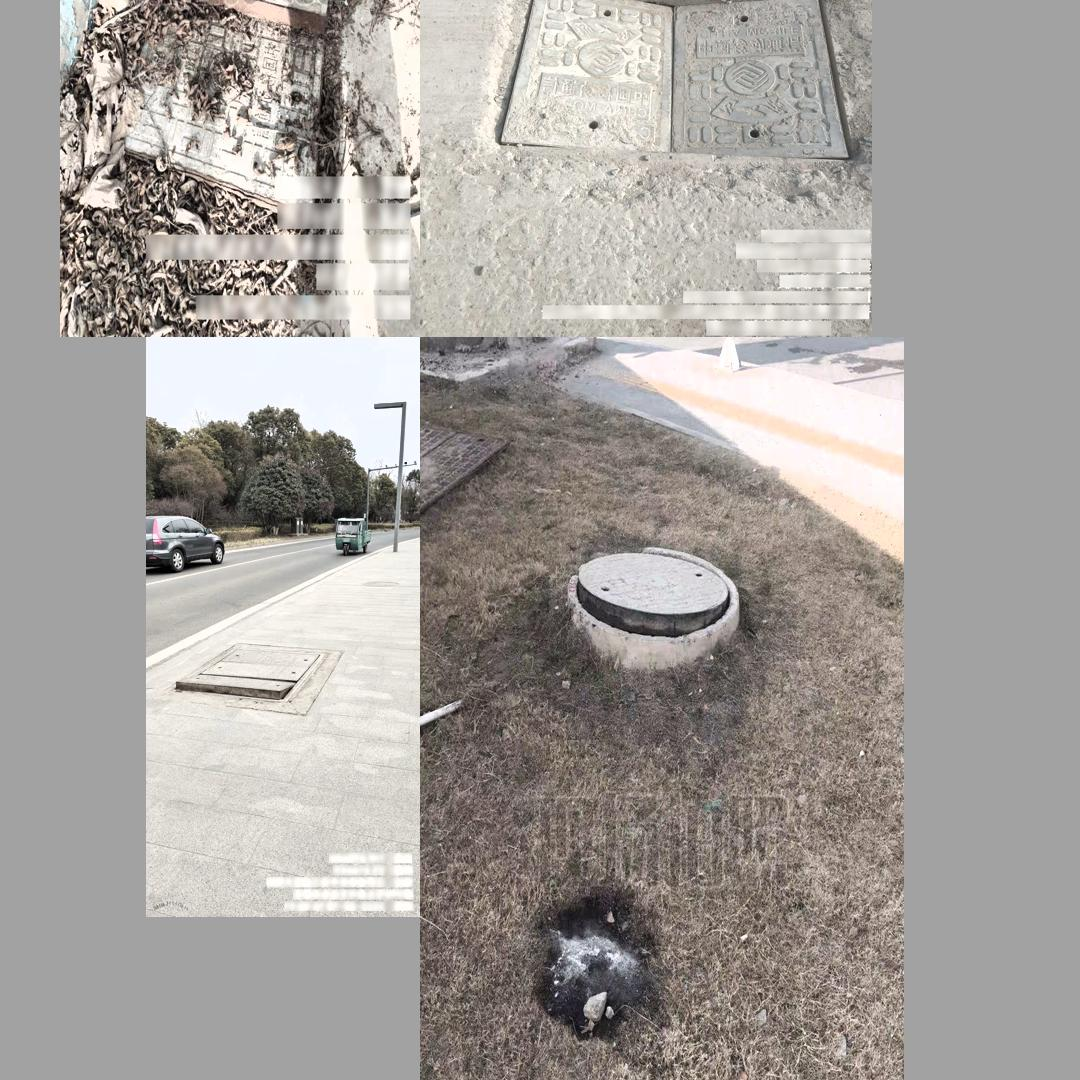uncovered: (485, 0, 853, 162), (120, 0, 338, 212), (568, 546, 737, 651), (173, 643, 328, 704)
